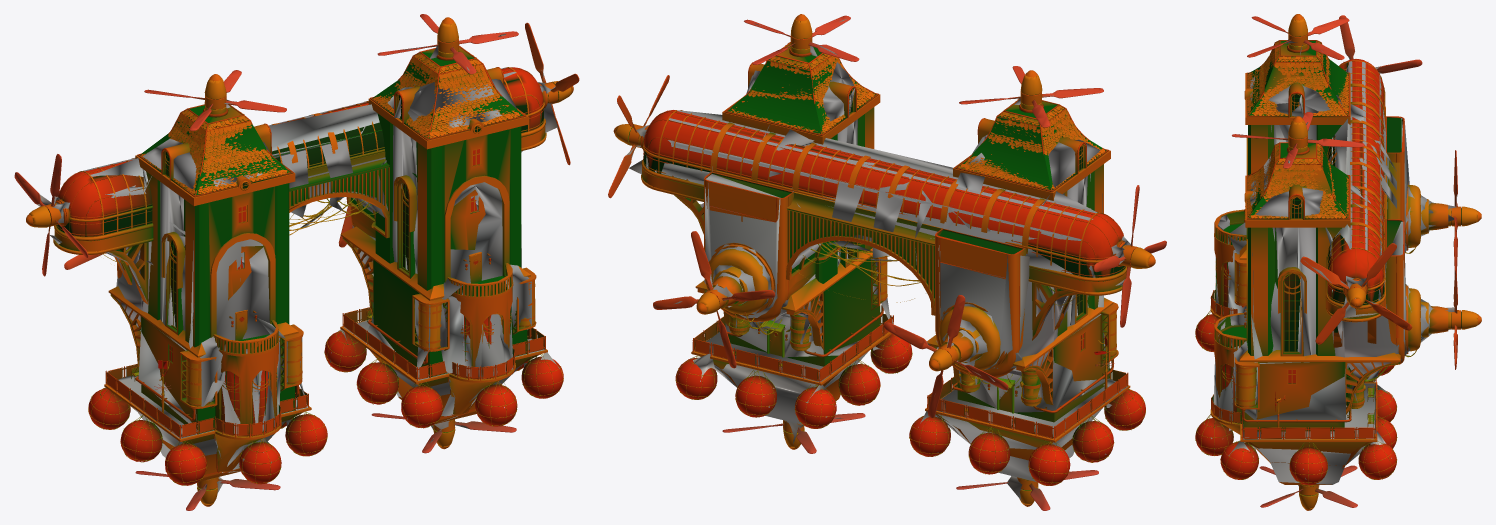
File: KB3D_CSK_BldgMdEntranceArch_A.glb
3 views of the same model, side by side, from view 1: azimuth 30°, elevation 25°; view 2: azimuth 150°, elevation 25°; view 3: azimuth 270°, elevation 25° (orthographic). The views are drawn at different scales.
Parts seen in each view (by area): view 1: L0, L1, L2; view 2: L0, L2, L1; view 3: L0, L1, L2.
Part boxes in pixels (x1,y1,x2,y2): L0: [14, 14, 579, 510]; L1: [17, 14, 578, 508]; L2: [30, 34, 559, 493]; L0: [608, 14, 1166, 510]; L2: [614, 19, 1130, 504]; L1: [612, 15, 1165, 508]; L0: [1195, 14, 1481, 510]; L1: [1196, 18, 1477, 507]; L2: [1196, 39, 1461, 491].
Size of the model in its own units: 43.54 by 33.16 by 21.93.
